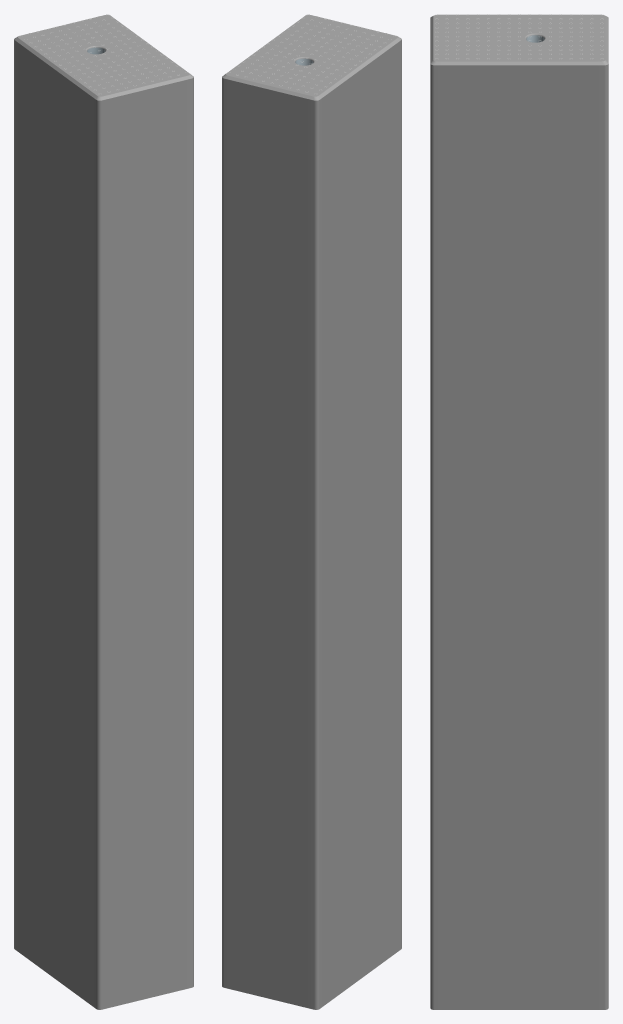
Rendered from Platform2.fbx.
The picture shows the model from 3 angles, left to right: view 1: azimuth 30°, elevation 25°; view 2: azimuth 150°, elevation 25°; view 3: azimuth 270°, elevation 25°; orthographic projection. The views are drawn at different scales.
Parts seen in each view (by area): view 1: Platform_Neon; view 2: Platform_Neon; view 3: Platform_Neon.
Part boxes in pixels (x1,y1,x2,y2): Platform_Neon: (14,14,193,1009); Platform_Neon: (222,14,401,1009); Platform_Neon: (430,14,608,1009).
Size of the model in its own units: 1122 by 10090 by 1717.
